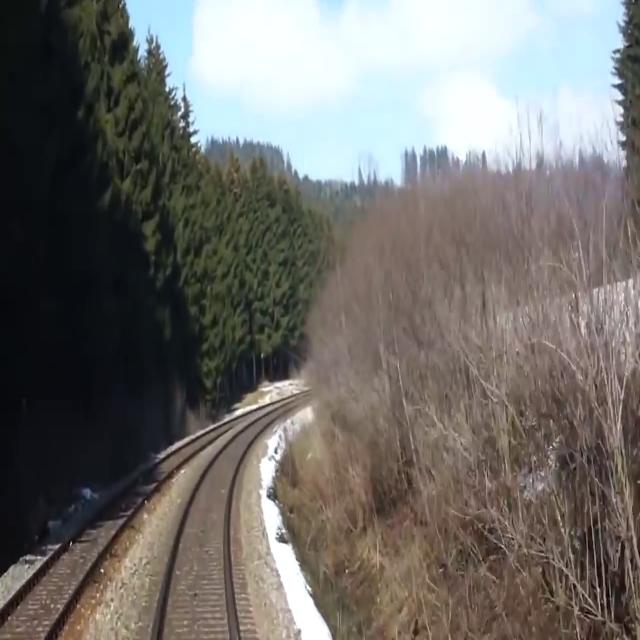rail-track: (0, 433, 212, 639), (157, 417, 268, 639)
